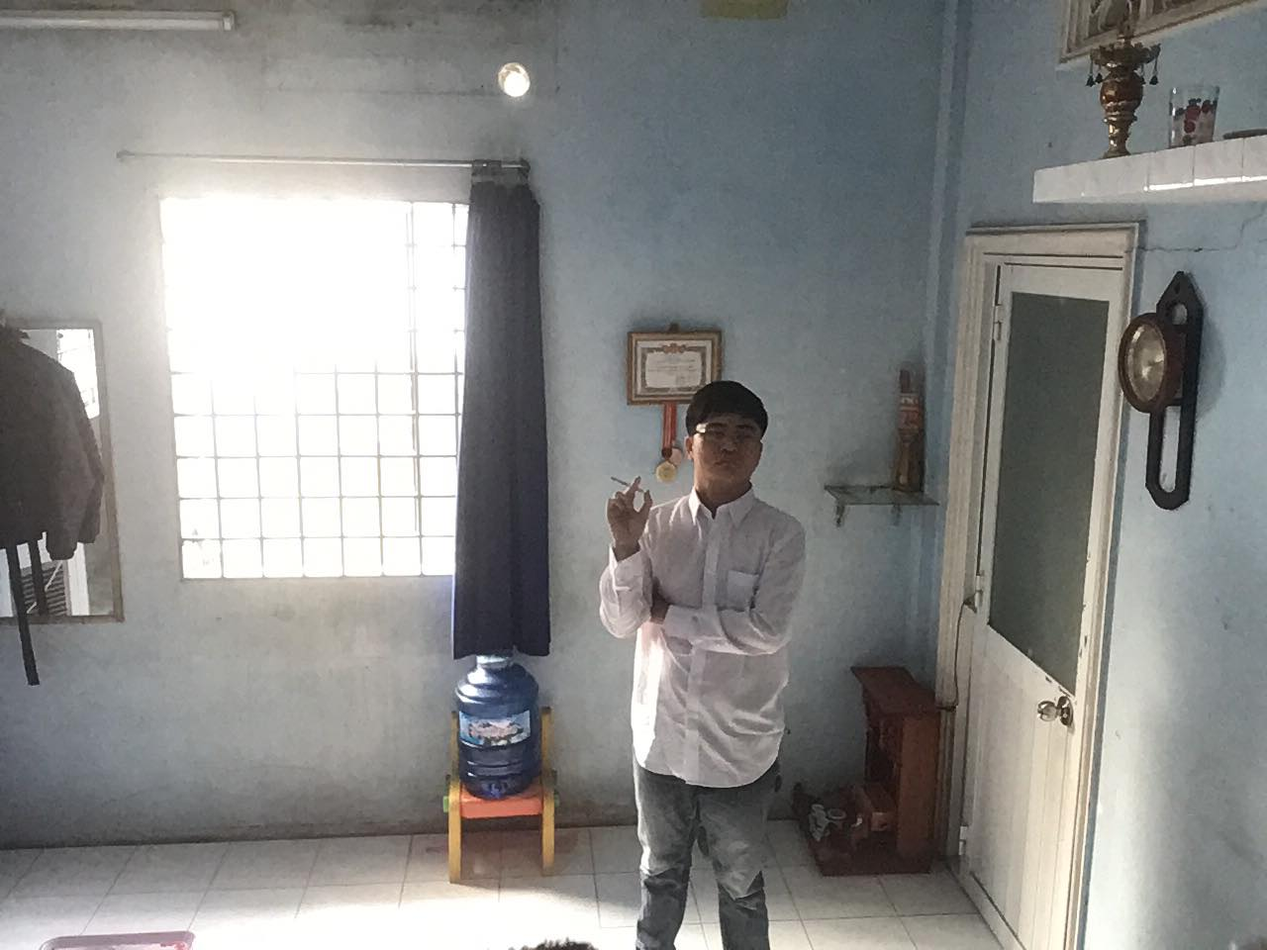cigarette: (610, 462, 652, 497)
person: (587, 370, 836, 950)
